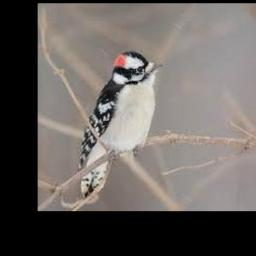Woodpecker: (78, 51, 163, 199)
